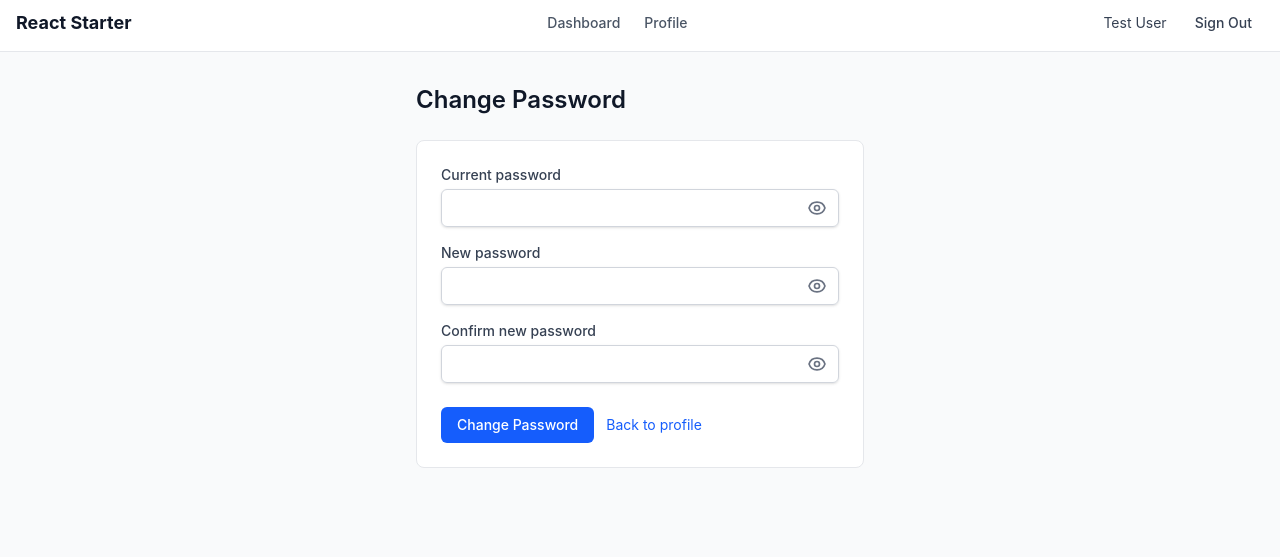
it: ChangePasswordPage › shows validation errors for empty fields
Click the button "Change Password". click: (518, 425)
box: [441, 407, 594, 443]
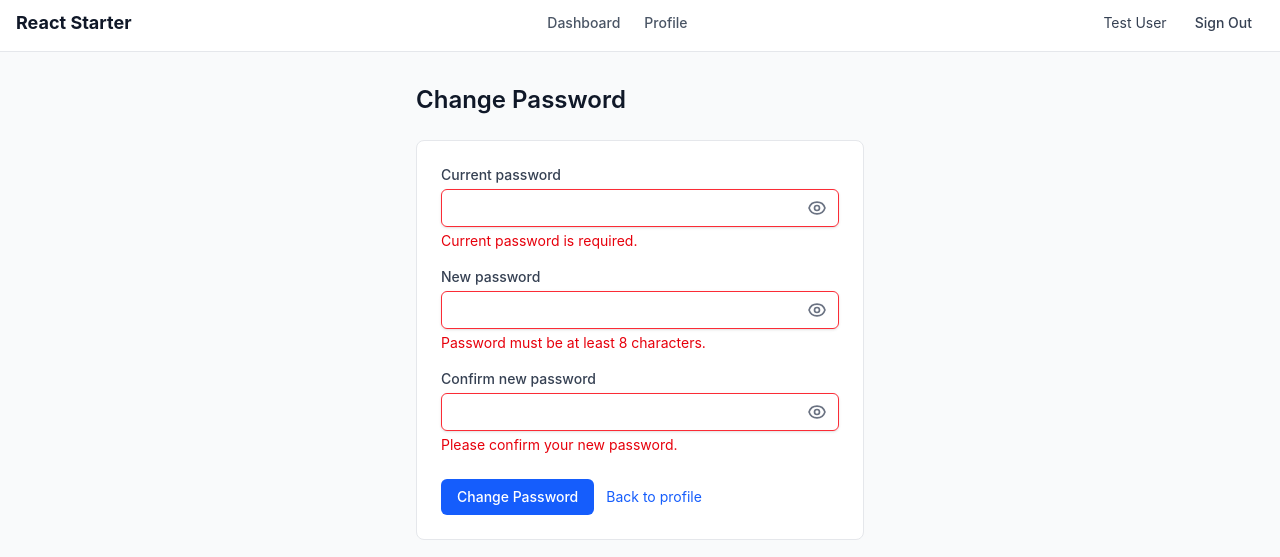
Check: the text "Current password is required." is shown, box [441, 232, 638, 249]
Check: the text "Password must be at least 8 characters." is shown, box [441, 334, 706, 351]
Check: the text "Please confirm your new password." is shown, box [441, 436, 678, 453]
